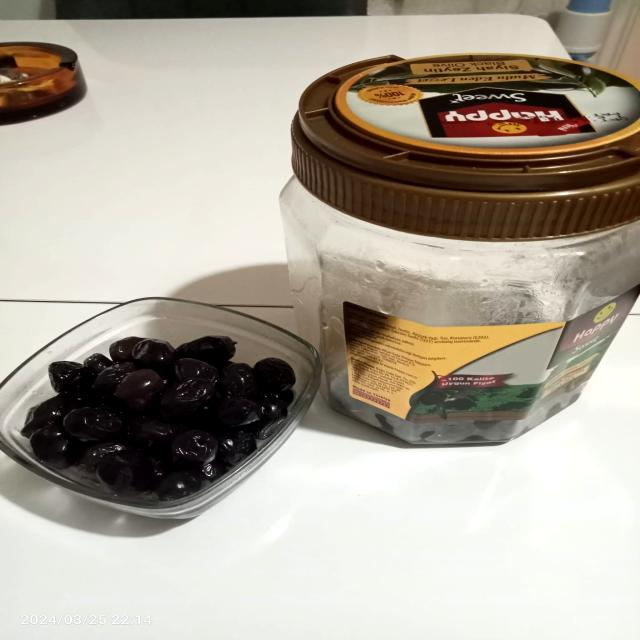olive: (153, 371, 228, 425), (158, 423, 232, 475), (50, 404, 131, 445), (110, 362, 169, 416)
